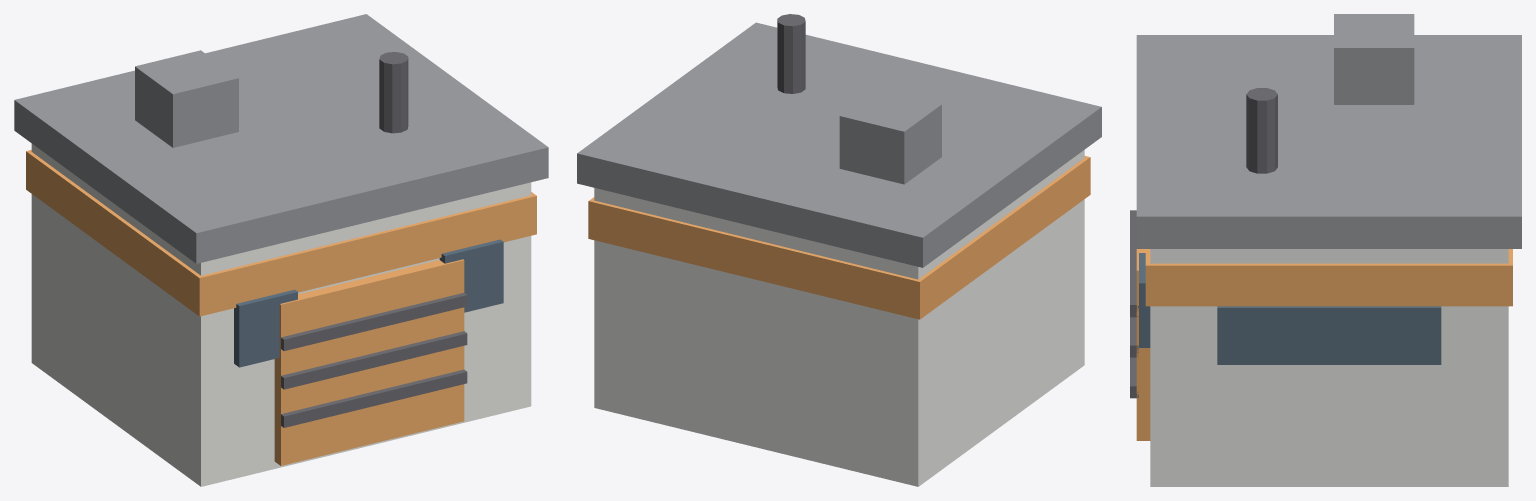
File: garage.glb
3 renders of one model, left to right at view 1: azimuth 30°, elevation 25°; view 2: azimuth 150°, elevation 25°; view 3: azimuth 270°, elevation 25°, orthographic. The views are drawn at different scales.
Visible parts, largest first — view 1: roof, walls, door, band, vent, win_l, slat1, slat2, slat0, win_r, pipe; view 2: walls, roof, band, vent, pipe; view 3: roof, walls, band, win_side, vent, pipe, door, win_r, slat2.
Part boxes in pixels (x1=…): roof: x1=14, y1=14, x2=548, y2=263; walls: x1=31, y1=143, x2=531, y2=486; door: x1=274, y1=259, x2=464, y2=465; band: x1=26, y1=150, x2=536, y2=316; vent: x1=135, y1=50, x2=238, y2=147; win_l: x1=234, y1=289, x2=297, y2=367; slat1: x1=281, y1=331, x2=467, y2=389; slat2: x1=281, y1=293, x2=467, y2=351; slat0: x1=281, y1=369, x2=467, y2=427; win_r: x1=439, y1=239, x2=503, y2=312; pipe: x1=379, y1=52, x2=408, y2=133; walls: x1=594, y1=150, x2=1084, y2=486; roof: x1=577, y1=22, x2=1101, y2=267; band: x1=588, y1=156, x2=1090, y2=319; vent: x1=839, y1=88, x2=941, y2=184; pipe: x1=777, y1=14, x2=805, y2=93; roof: x1=1136, y1=35, x2=1521, y2=248; walls: x1=1150, y1=249, x2=1508, y2=486; band: x1=1145, y1=249, x2=1512, y2=306; win_side: x1=1217, y1=306, x2=1441, y2=364; vent: x1=1334, y1=14, x2=1414, y2=104; pipe: x1=1246, y1=88, x2=1277, y2=173; door: x1=1136, y1=249, x2=1150, y2=440; win_r: x1=1139, y1=253, x2=1150, y2=347; slat2: x1=1130, y1=210, x2=1138, y2=317.
Bounding box in the file's own units: 0.96 × 0.86 × 0.875.
